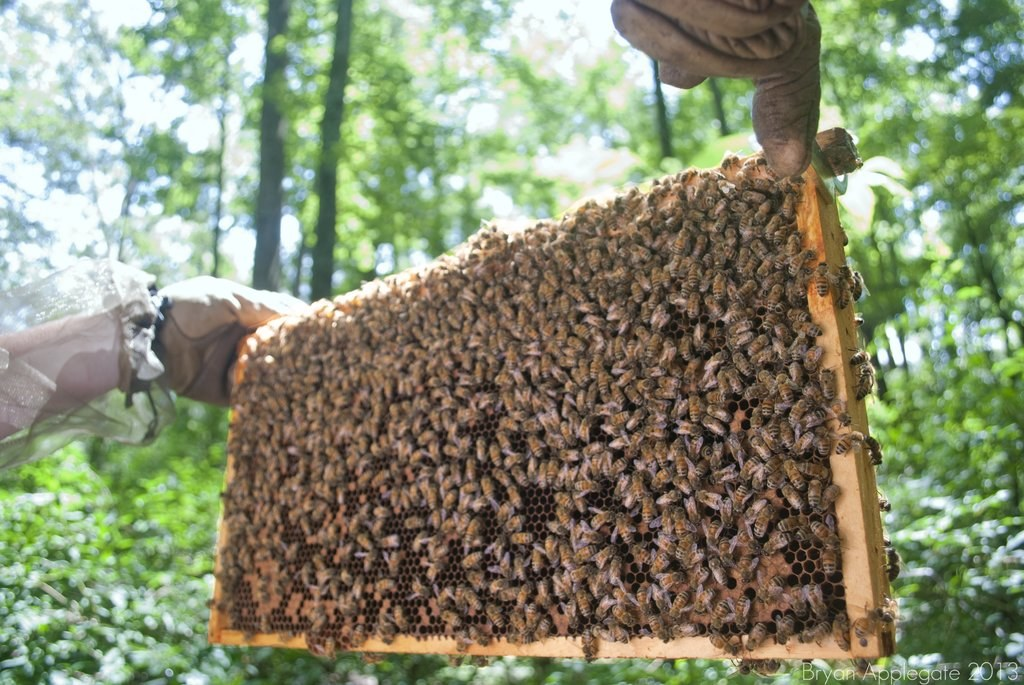bee: (204, 125, 879, 660), (594, 317, 906, 679), (179, 318, 418, 659), (531, 193, 864, 420), (413, 419, 614, 656), (300, 232, 545, 416), (488, 437, 499, 468)
insect: (0, 0, 1023, 684), (220, 171, 856, 645)
